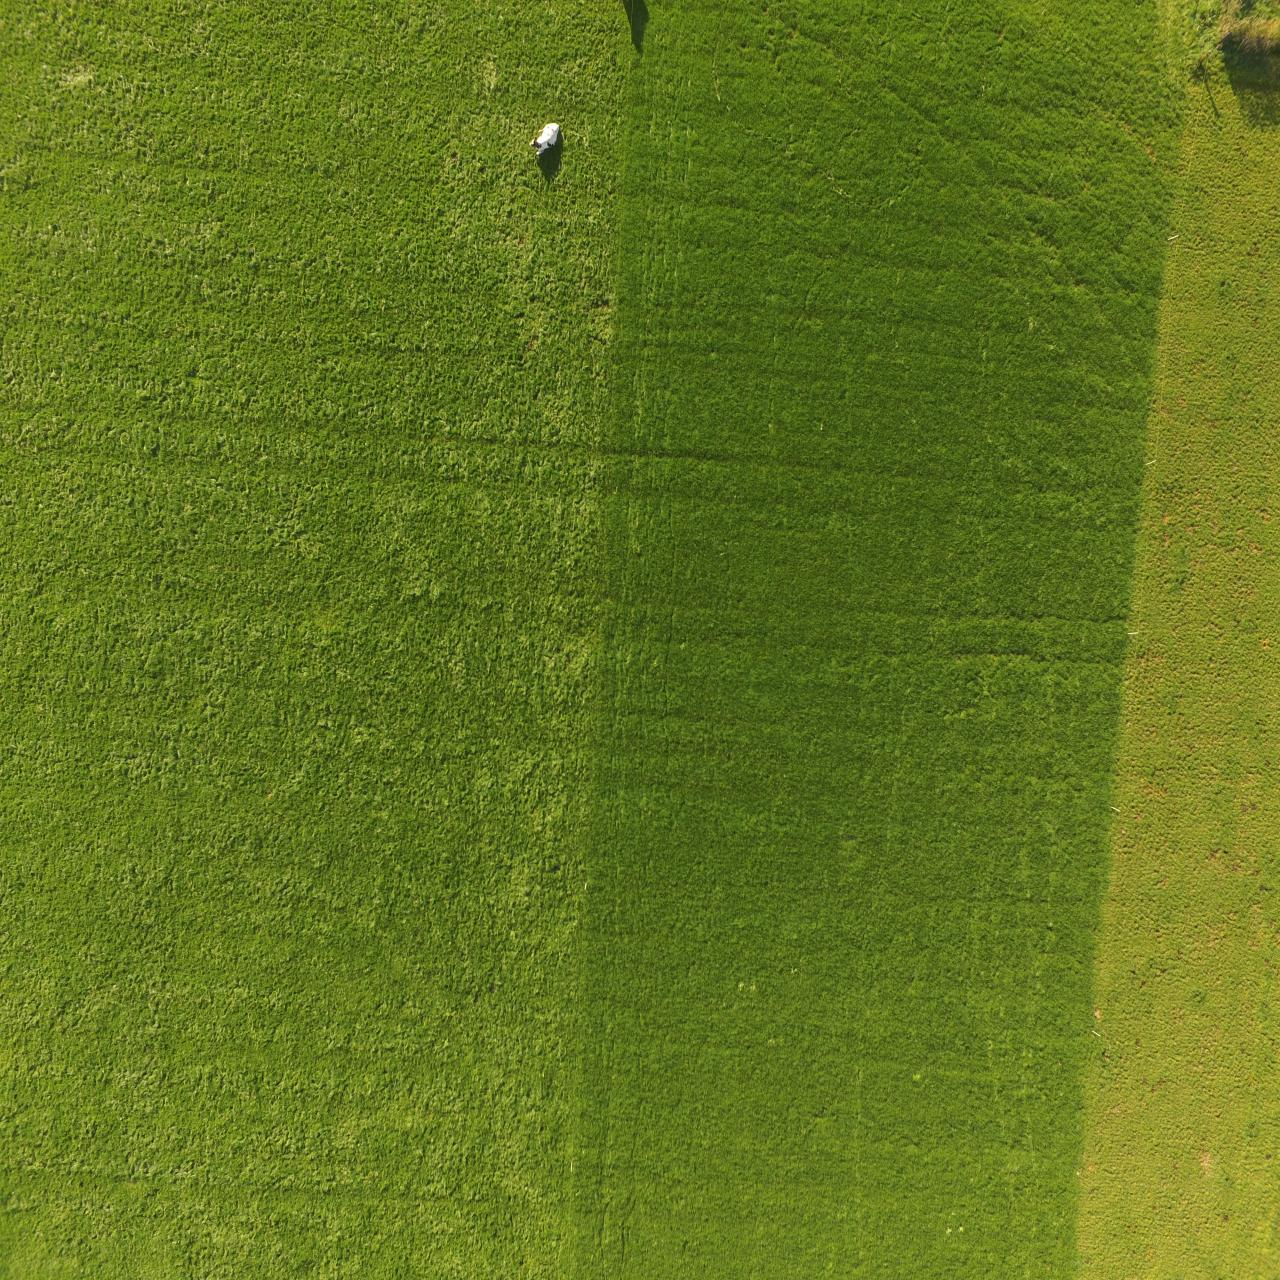cow: (524, 120, 560, 163)
